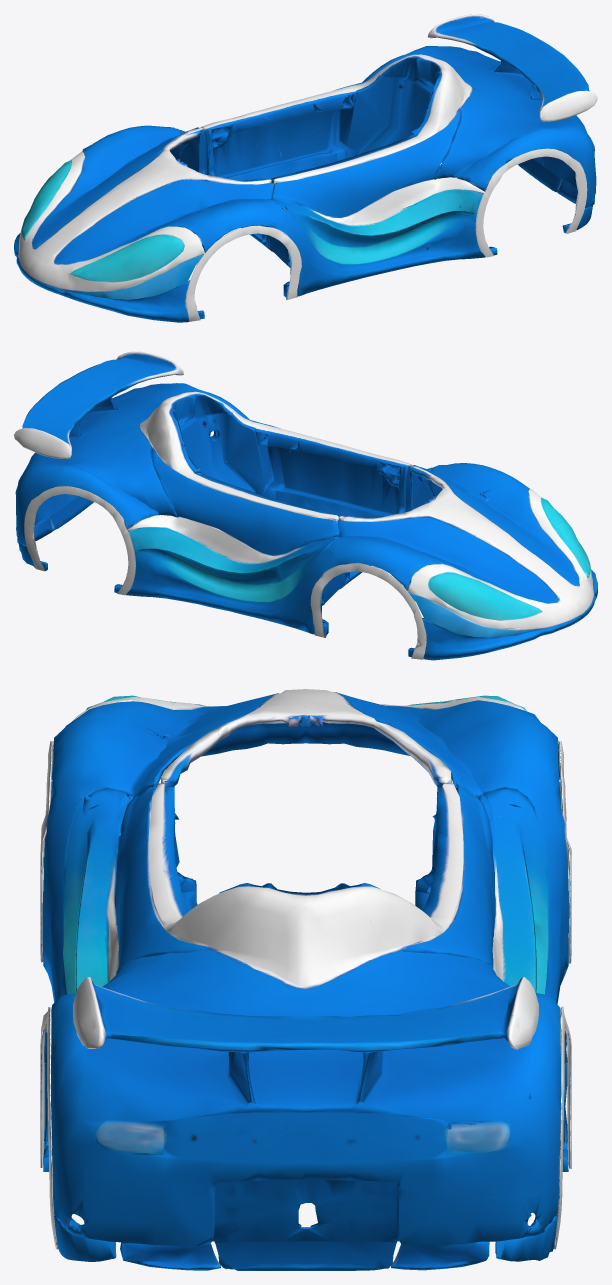
The model's file is noa_tide.glb.
3 renders of one model, top to bottom at view 1: azimuth 30°, elevation 25°; view 2: azimuth 150°, elevation 25°; view 3: azimuth 270°, elevation 25°, orthographic. The views are drawn at different scales.
Parts seen in each view (by area): view 1: geometry_0; view 2: geometry_0; view 3: geometry_0.
Boxes of the visible parts, x1,y1,x2,y2 form: geometry_0: [14, 14, 597, 322]; geometry_0: [14, 351, 597, 660]; geometry_0: [40, 689, 571, 1270].
Bounding box in the file's own units: 0.9507 × 0.2451 × 0.4136.
Materials: 1 (1 with a texture image).
